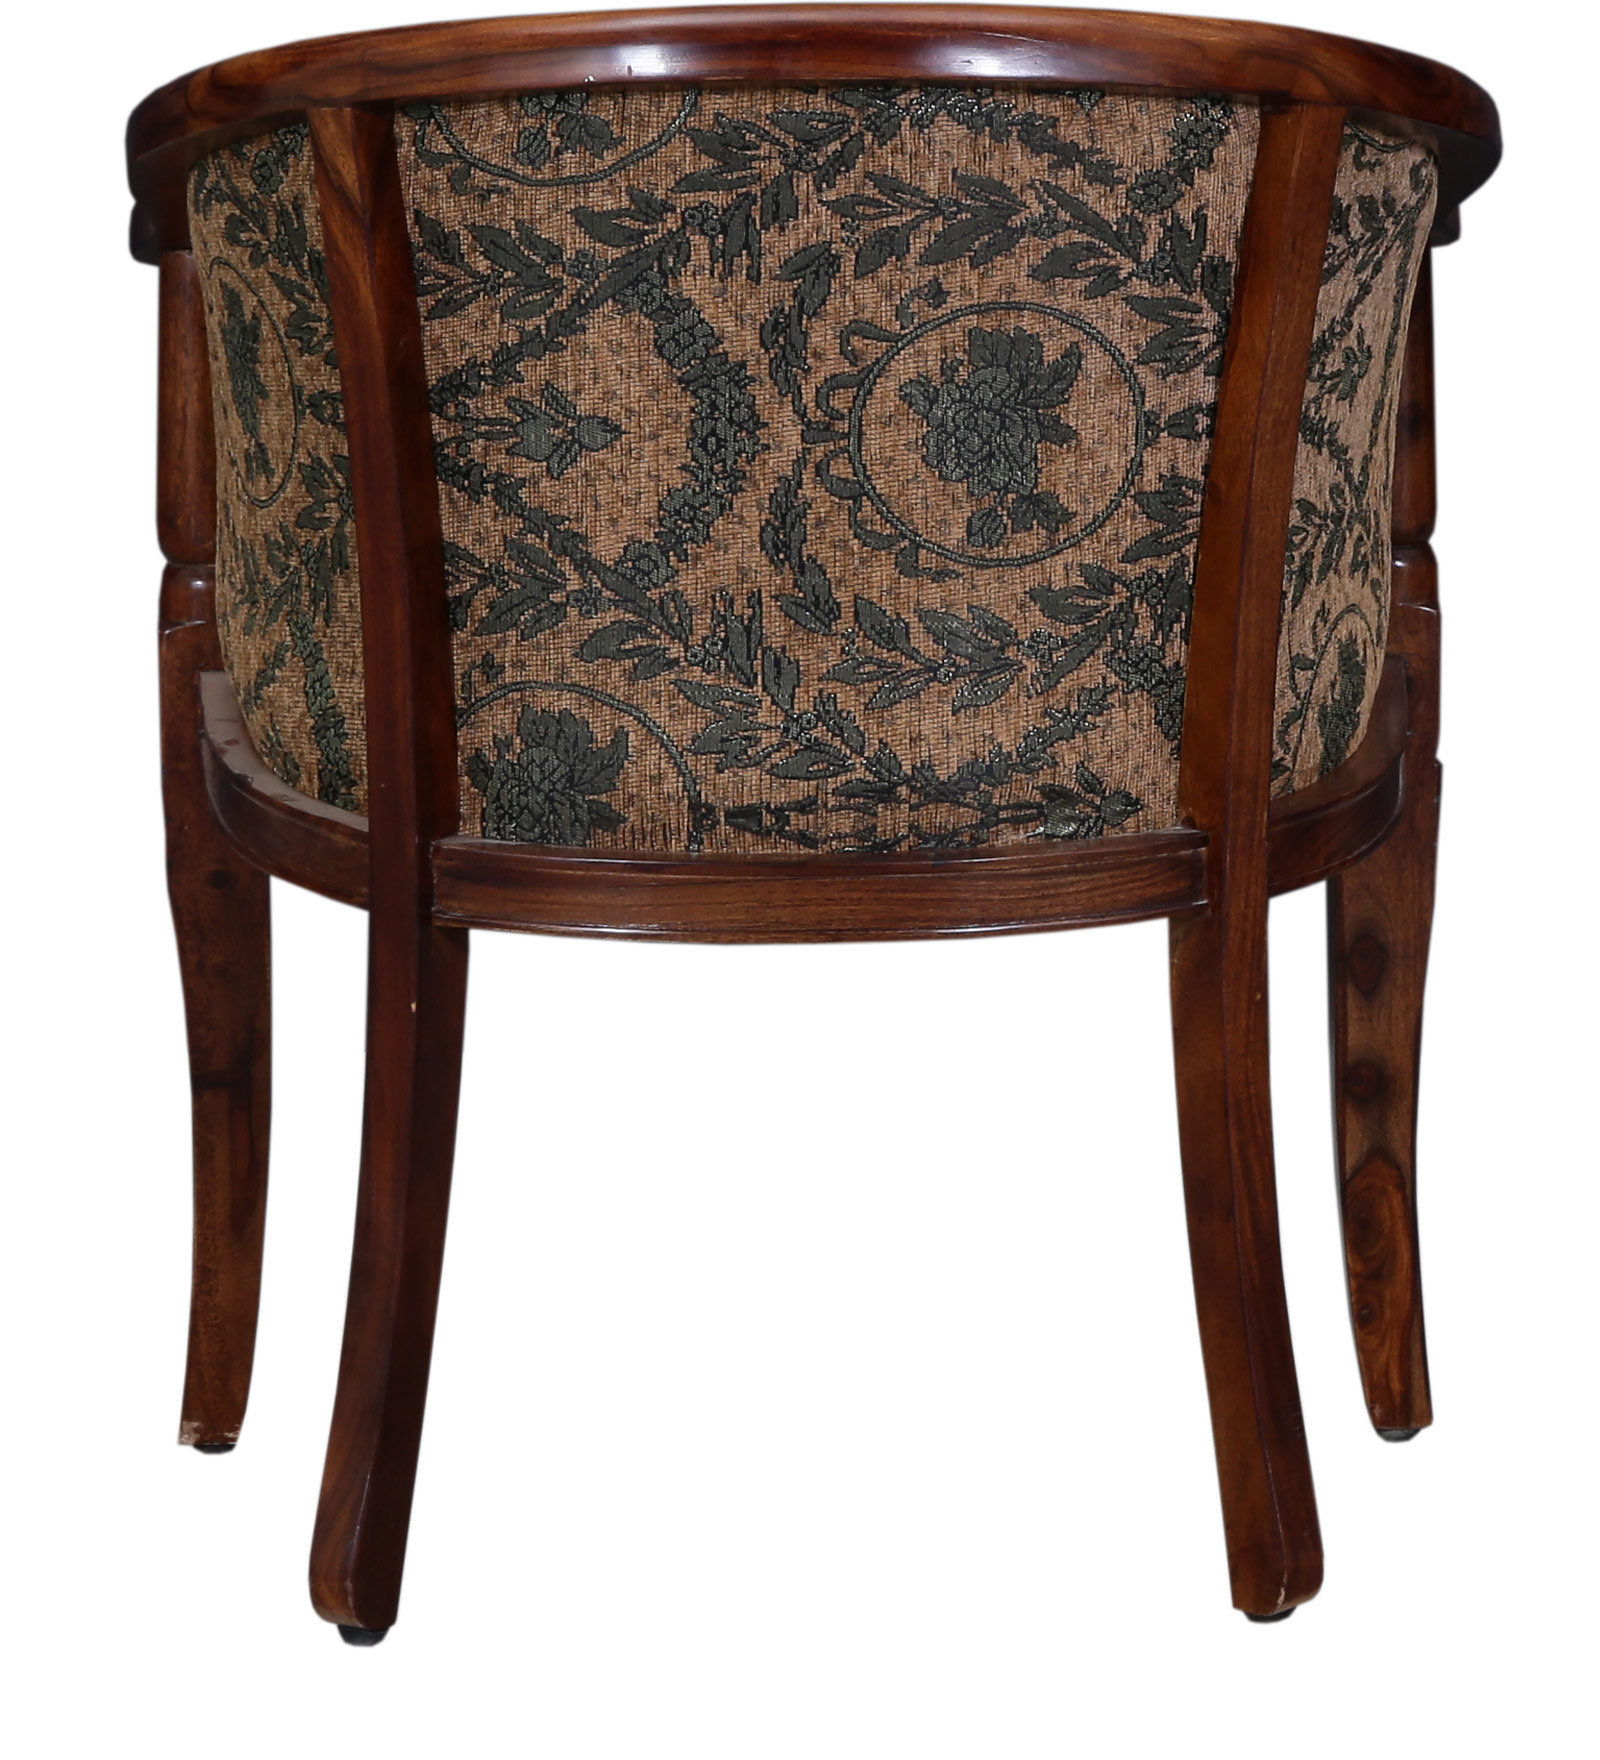Stalley Arm Chair in Honey Oak Finish by Amberville: (57, 9, 1503, 1676)
